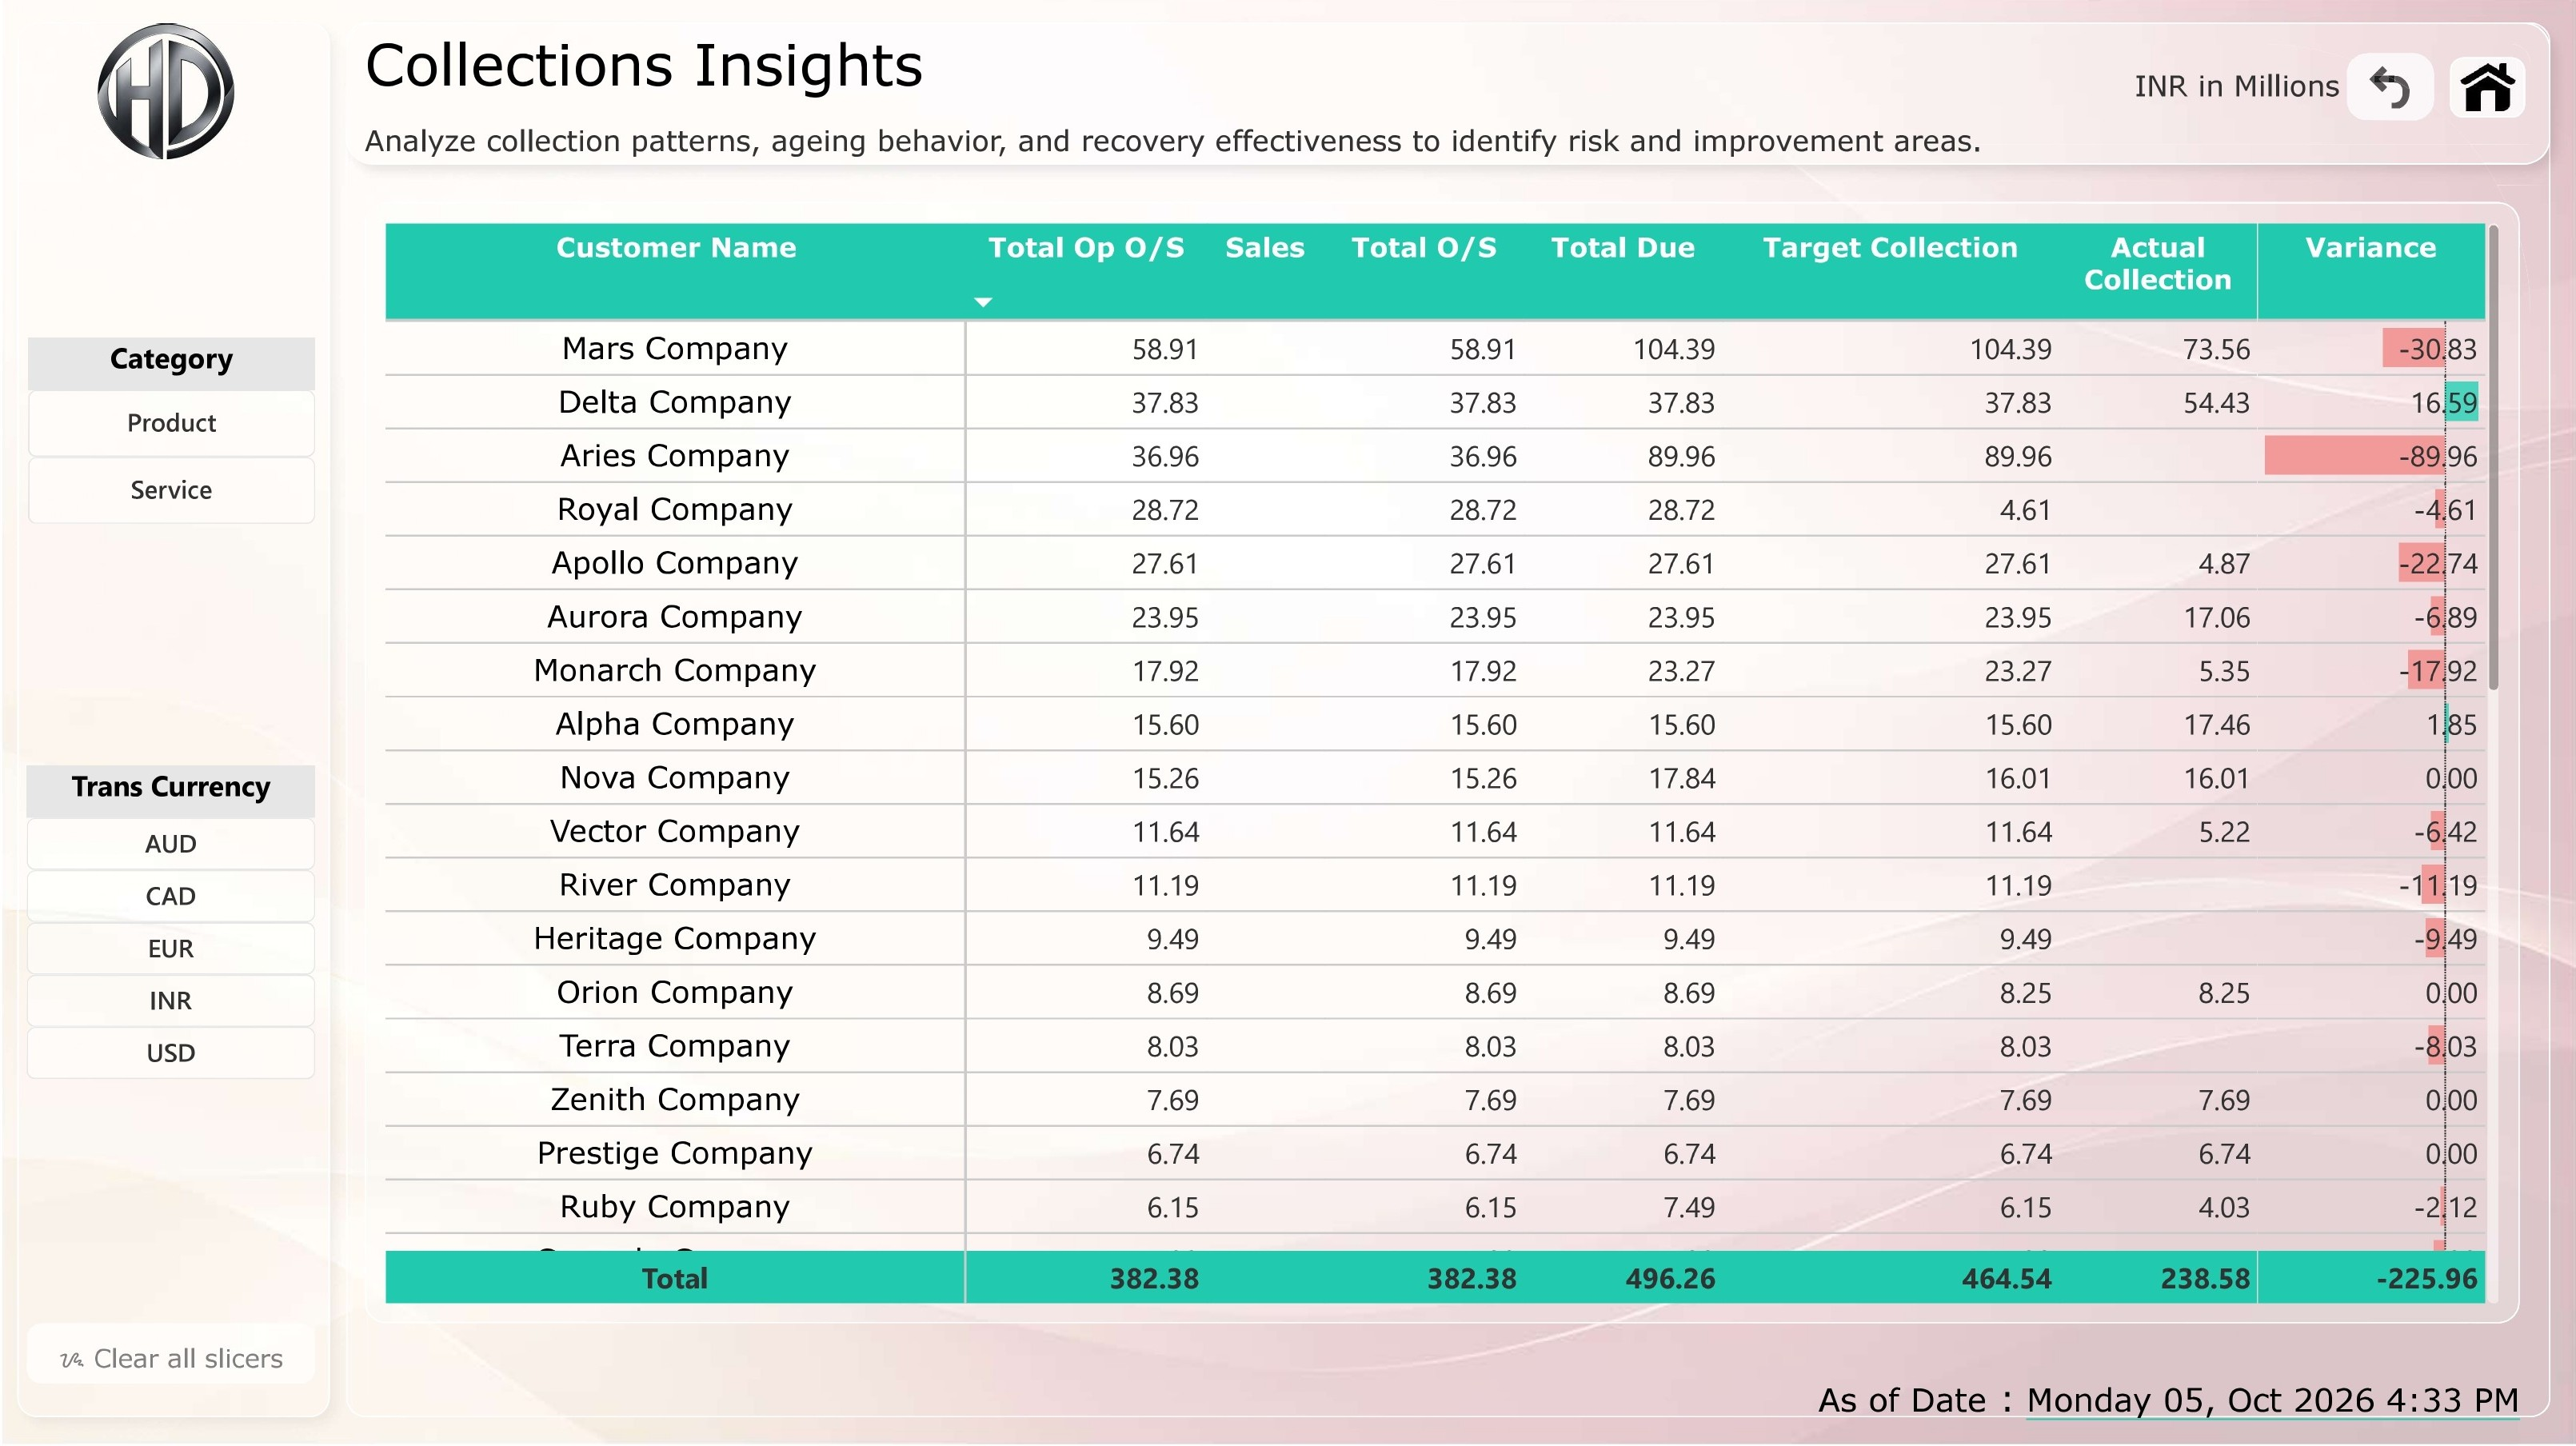

The page's visual inventory and layout, read from the dashboard file:
{"tool":"powerbi","page":{"name":"Collections Insights","canvas":[1920,1080],"ordinal":4},"visuals":[{"type":"shape","title":"Head bg","box":[256,20,1644,1040],"z":1000},{"type":"shape","title":"Head bg","box":[256,20,1644,106],"z":2000},{"type":"shape","box":[11.1,20.3,232.7,1039.6],"z":2500},{"type":"textbox","box":[270,24,1330,130],"z":3000},{"type":"image","box":[1809.5,30.9,86,75],"z":4000},{"type":"actionButton","box":[1747.5,42.9,65,50],"z":5000},{"type":"textbox","box":[1575.5,34.9,188,54],"z":6000},{"type":"textbox","box":[1354,1010,536,54],"z":7000},{"type":"pivotTable","title":"Top 10 Customers by Over Due Amount","fields":{"Rows":["Collections.Customer Name"],"Values":["Collection Measure.Opening Outstanding (Current Month)","Collection Measure.Total_Sales","select","Collection Measure.Total_Outstanding_CurrentMonth","Collection Measure.Target Collection","Collection Measure.Actual Collection","select1"]},"box":[269.6,153.8,1607,836.1],"z":8000},{"type":"image","box":[0,0,244,141.2],"z":9000},{"type":"advancedSlicerVisual","fields":{"Values":["Base file.Category"]},"box":[18.7,254.8,214.2,140.3],"z":10000},{"type":"advancedSlicerVisual","fields":{"Values":["Base file.Transaction Currency"]},"box":[18.3,573.8,215,238],"z":11000},{"type":"actionButton","box":[18.5,990.5,214.6,45],"z":12000}]}

Visuals, with their boxes in screenshot pixels (x1, y1, x2, y2), scaled from the page's 1920x1080 canvas onto the 2576x1446 screenshot:
"Head bg" shape: pyautogui.locateOnScreen(343, 26, 2549, 1420)
"Head bg" shape: pyautogui.locateOnScreen(343, 26, 2549, 169)
shape: pyautogui.locateOnScreen(15, 27, 327, 1419)
textbox: pyautogui.locateOnScreen(362, 32, 2147, 206)
image: pyautogui.locateOnScreen(2428, 42, 2543, 142)
actionButton: pyautogui.locateOnScreen(2345, 58, 2432, 125)
textbox: pyautogui.locateOnScreen(2114, 46, 2366, 119)
textbox: pyautogui.locateOnScreen(1816, 1352, 2536, 1424)
"Top 10 Customers by Over Due Amount" pivotTable: pyautogui.locateOnScreen(361, 206, 2518, 1325)
image: pyautogui.locateOnScreen(0, 0, 327, 189)
advancedSlicerVisual - Base file.Category: pyautogui.locateOnScreen(25, 342, 313, 529)
advancedSlicerVisual - Base file.Transaction Currency: pyautogui.locateOnScreen(25, 769, 313, 1087)
actionButton: pyautogui.locateOnScreen(25, 1326, 313, 1387)
